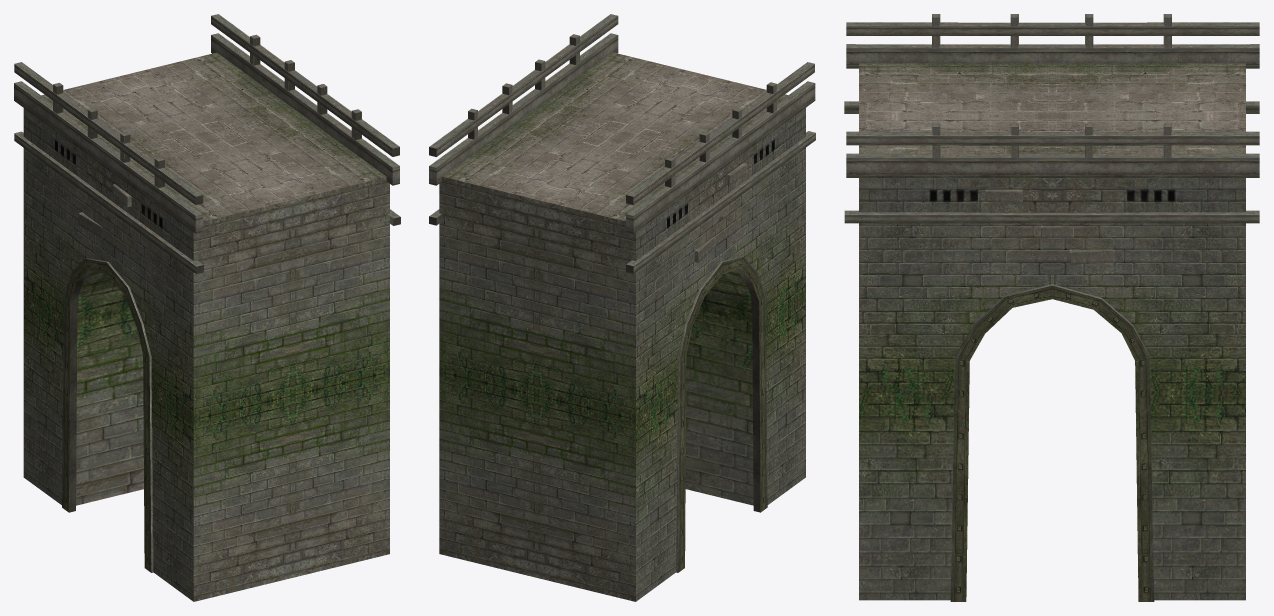
The model's file is qiao_dw_40_01.FBX.
The picture shows the model from 3 angles, left to right: view 1: azimuth 30°, elevation 25°; view 2: azimuth 150°, elevation 25°; view 3: azimuth 270°, elevation 25°; orthographic projection. The views are drawn at different scales.
Visible parts, largest first — view 1: qiao_dw_40_01; view 2: qiao_dw_40_01; view 3: qiao_dw_40_01.
Boxes of the visible parts, x1,y1,x2,y2 form: qiao_dw_40_01: (14, 14, 400, 601); qiao_dw_40_01: (429, 14, 815, 601); qiao_dw_40_01: (844, 14, 1259, 601).
Size of what is drawn, in the model's own units: 1014 by 1980 by 1566.
